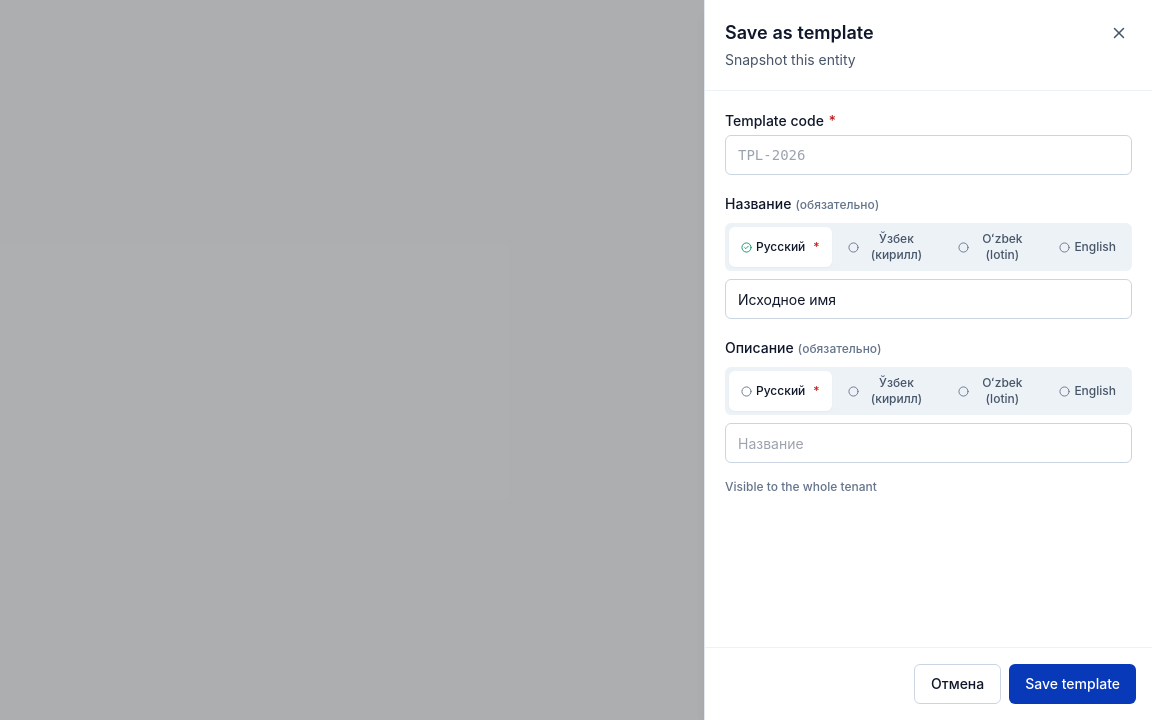
Test: <SaveAsTemplateDrawer /> (shared) › surfaces a duplicate-code conflict inline without losing the entered code
This screenshot has width=1152, height=720.
Type "dup" into the field with test id "fake-save-template-code" at (928, 155), box [725, 135, 1132, 175]
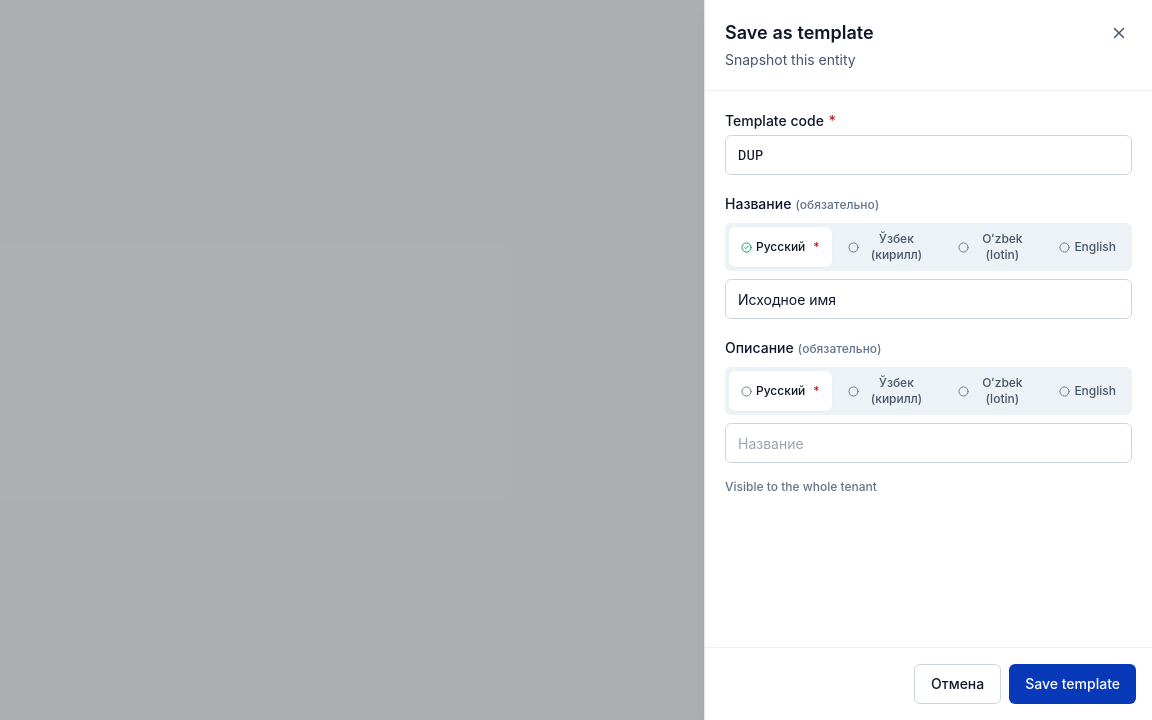
Click the button "Save template" at (1073, 684), box [1009, 664, 1136, 704]
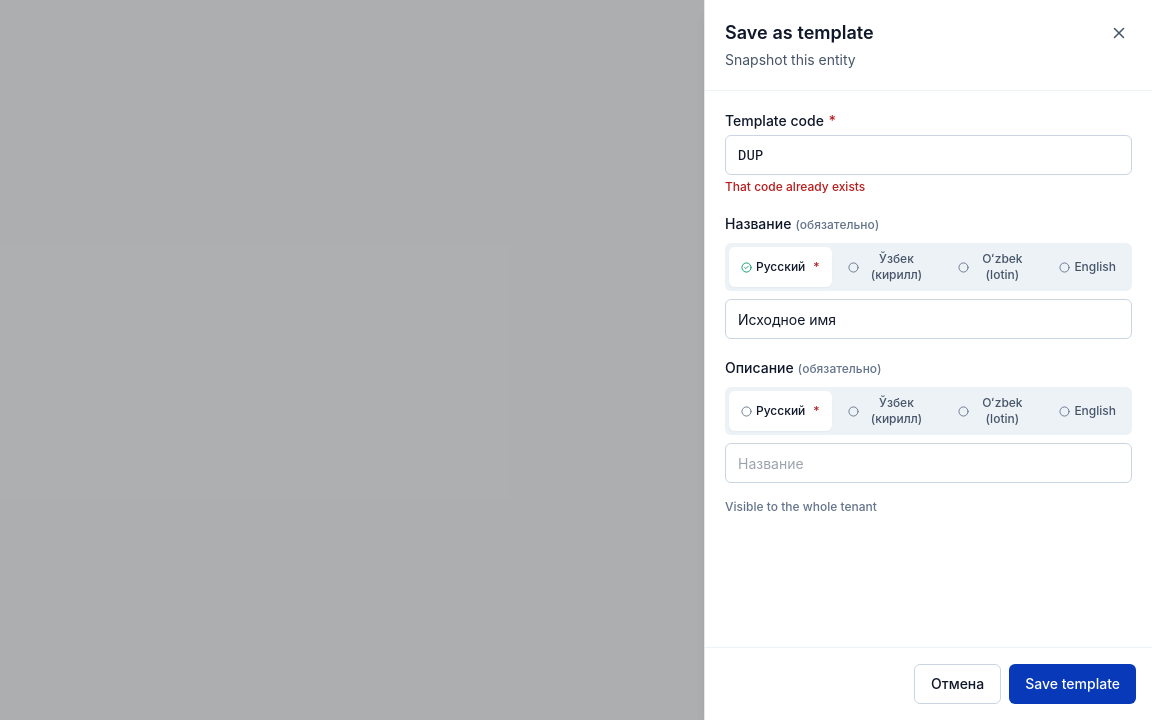
Check: the message with test id "fake-save-template-code-error" reads "That code already exists", box [725, 179, 865, 194]
